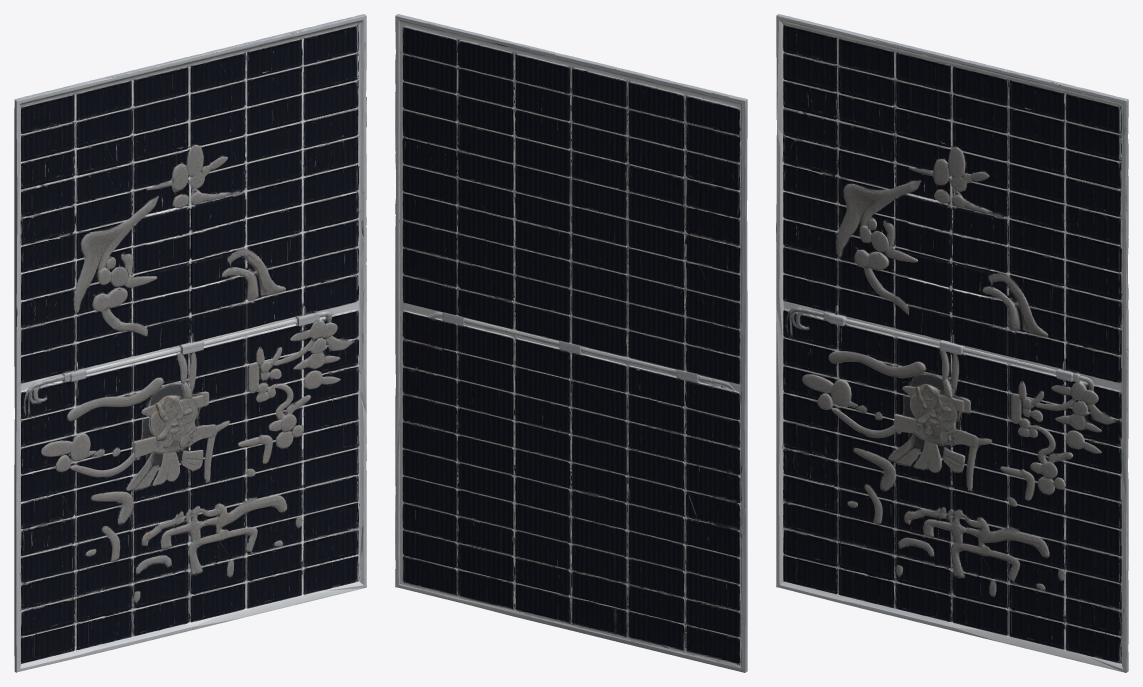
Rendered from SOL-VIK-PARADEA-550.glb.
3 views of the same model, side by side, from view 1: azimuth 30°, elevation 25°; view 2: azimuth 150°, elevation 25°; view 3: azimuth 330°, elevation 25° (orthographic).
Parts seen in each view (by area): view 1: mesh_node; view 2: mesh_node; view 3: mesh_node.
Boxes of the visible parts, x1=… form: mesh_node: x1=14, y1=14, x2=366, y2=672; mesh_node: x1=395, y1=14, x2=747, y2=672; mesh_node: x1=776, y1=14, x2=1128, y2=672.
Size of the model in its own units: 1.46 by 2.28 by 0.03.
1 material, 1 textured.
